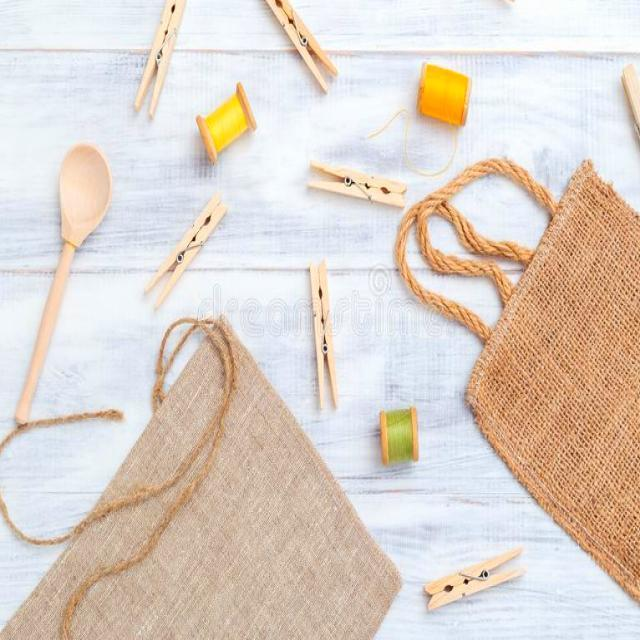clothes: (3, 339, 414, 640), (448, 193, 640, 599)
